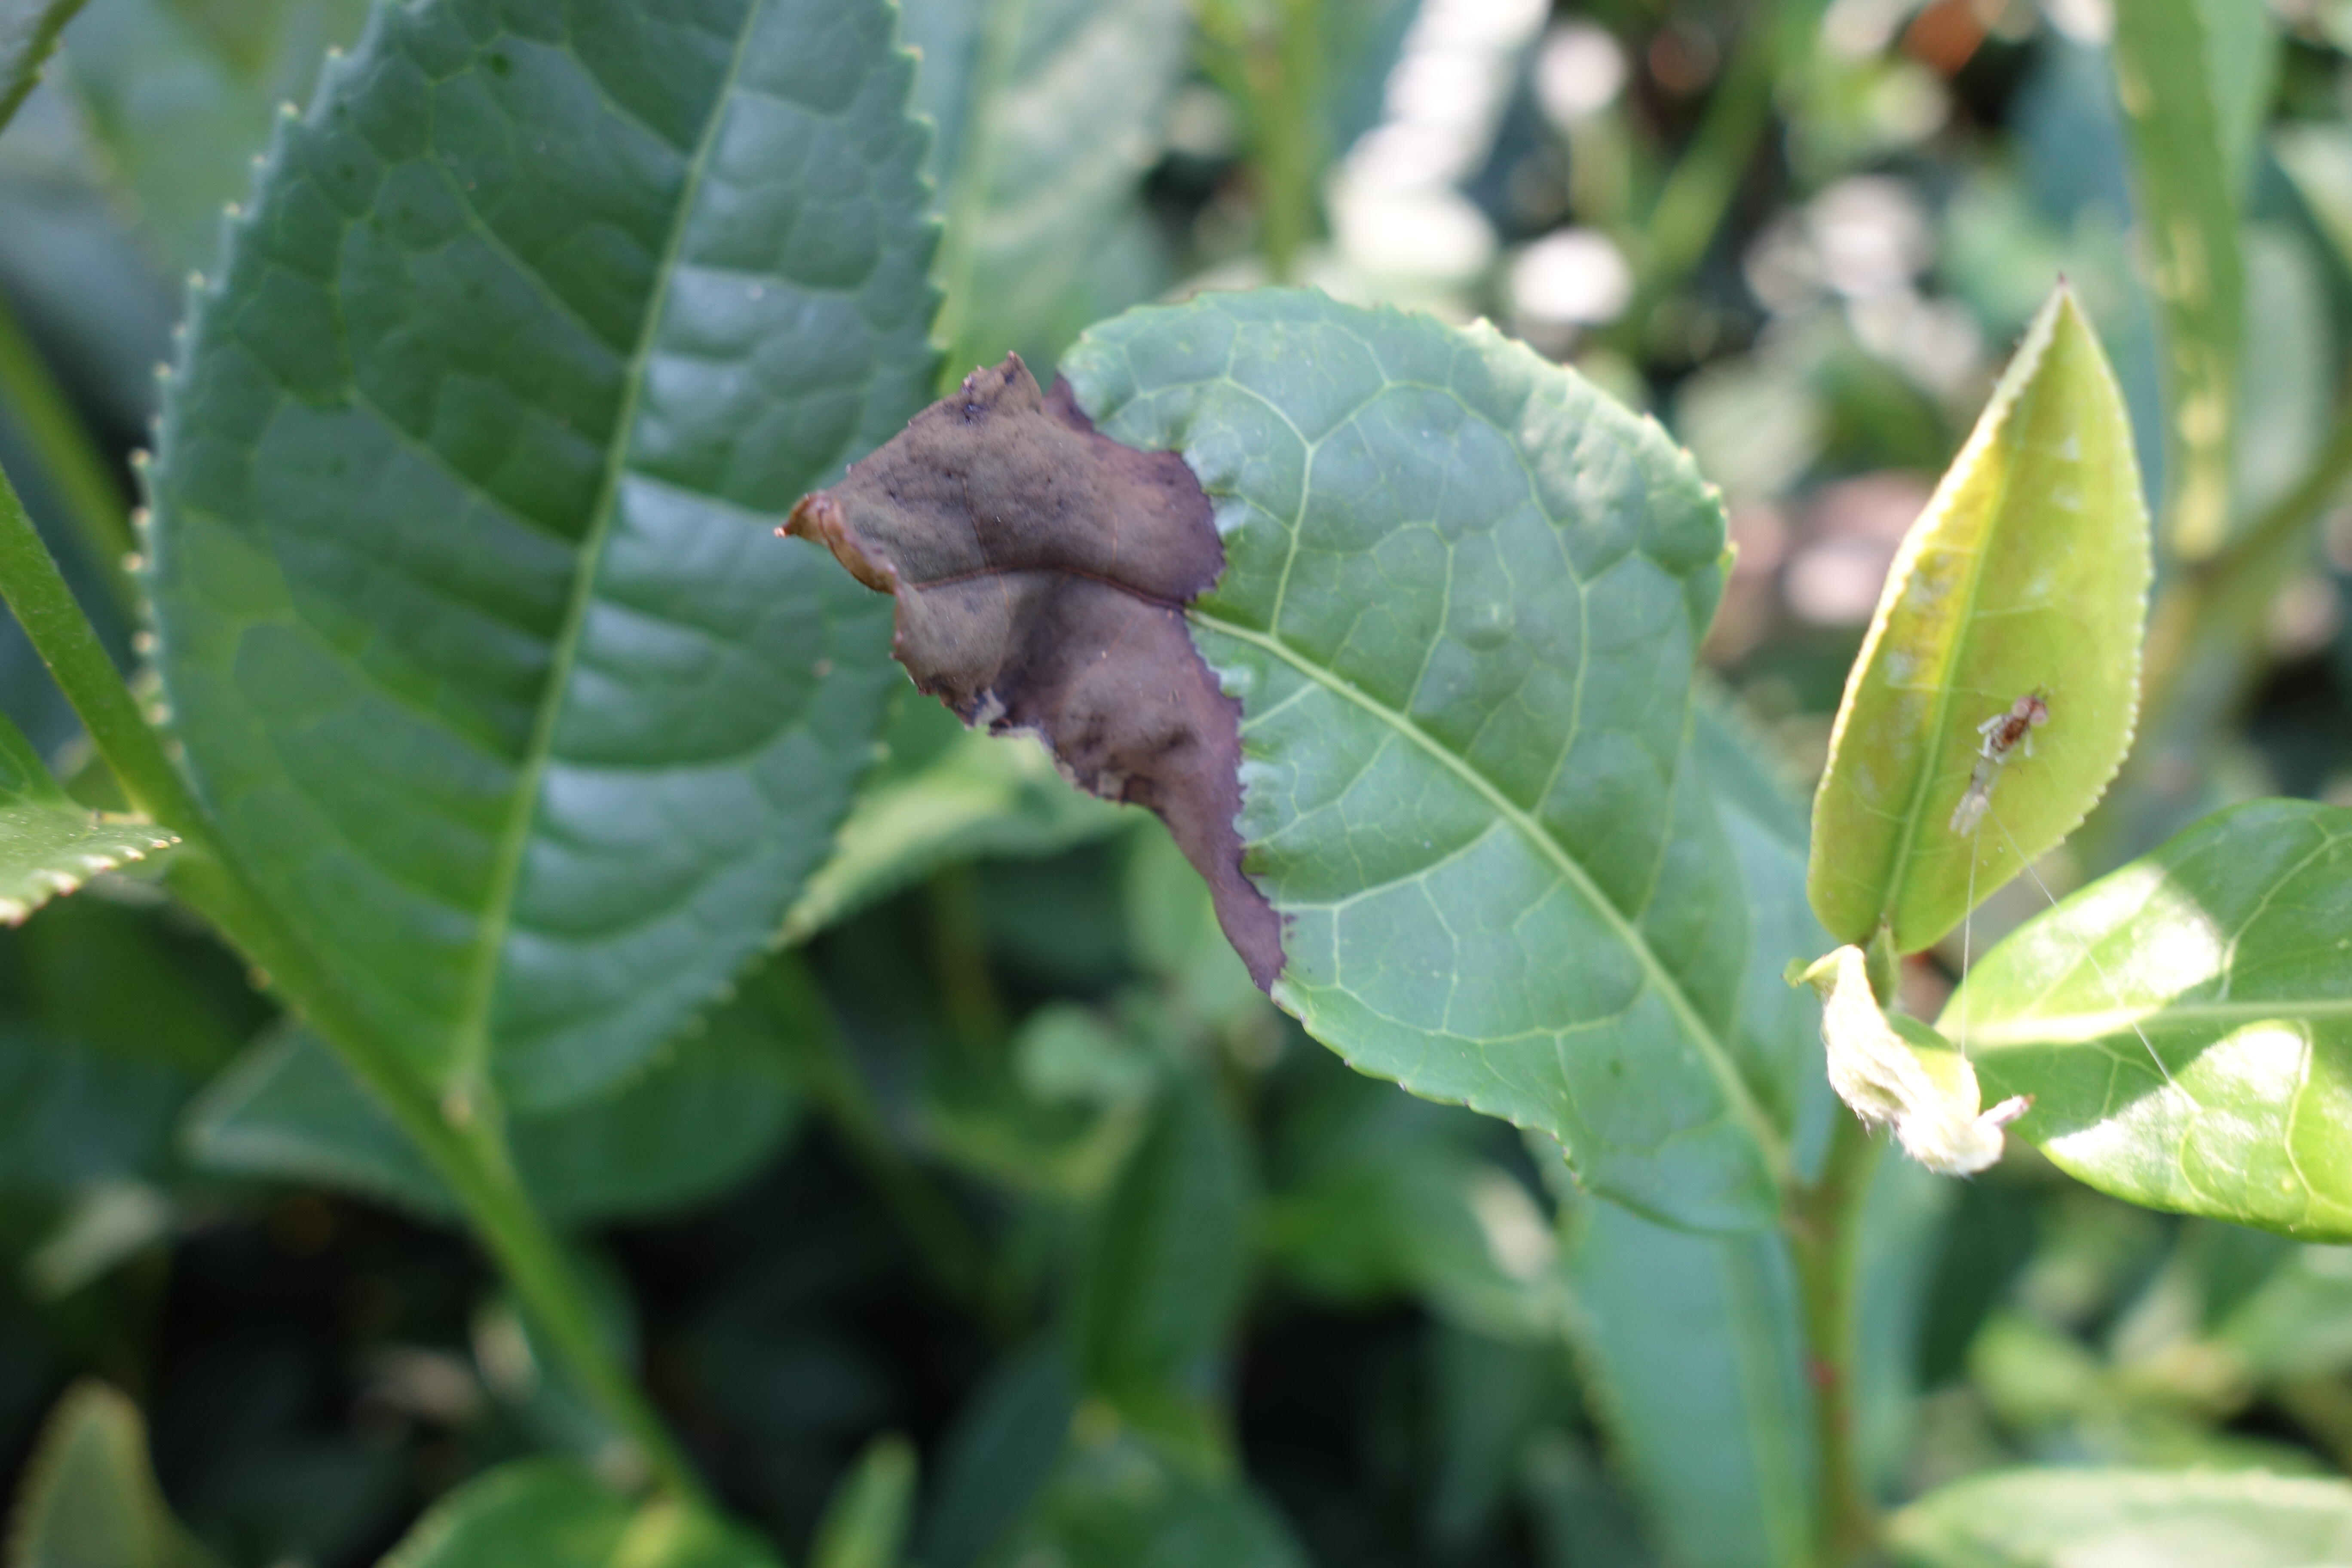healthy: (1935, 800, 2347, 1242)
tanju_high: (777, 282, 1815, 1242)
tanju_low: (1809, 271, 2151, 959)
